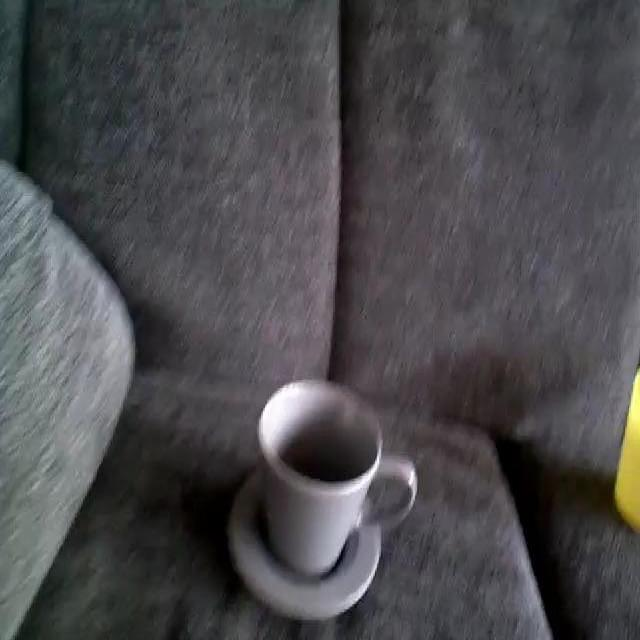cup: (224, 372, 426, 613)
